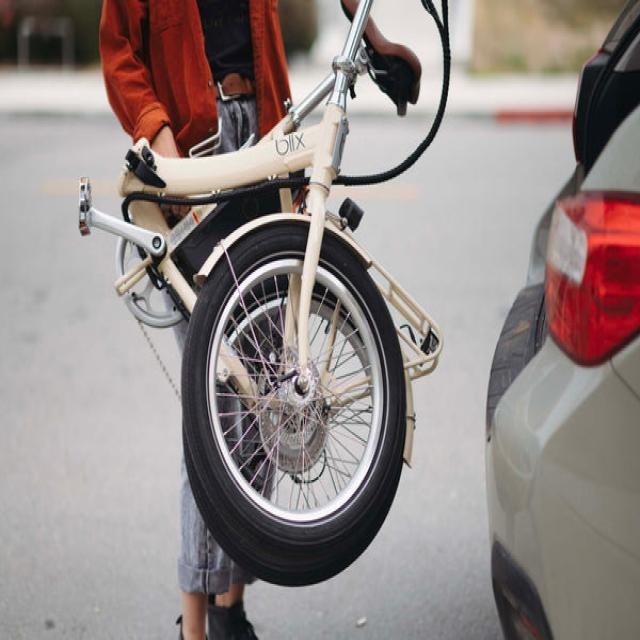folding-bike: (77, 0, 445, 587)
